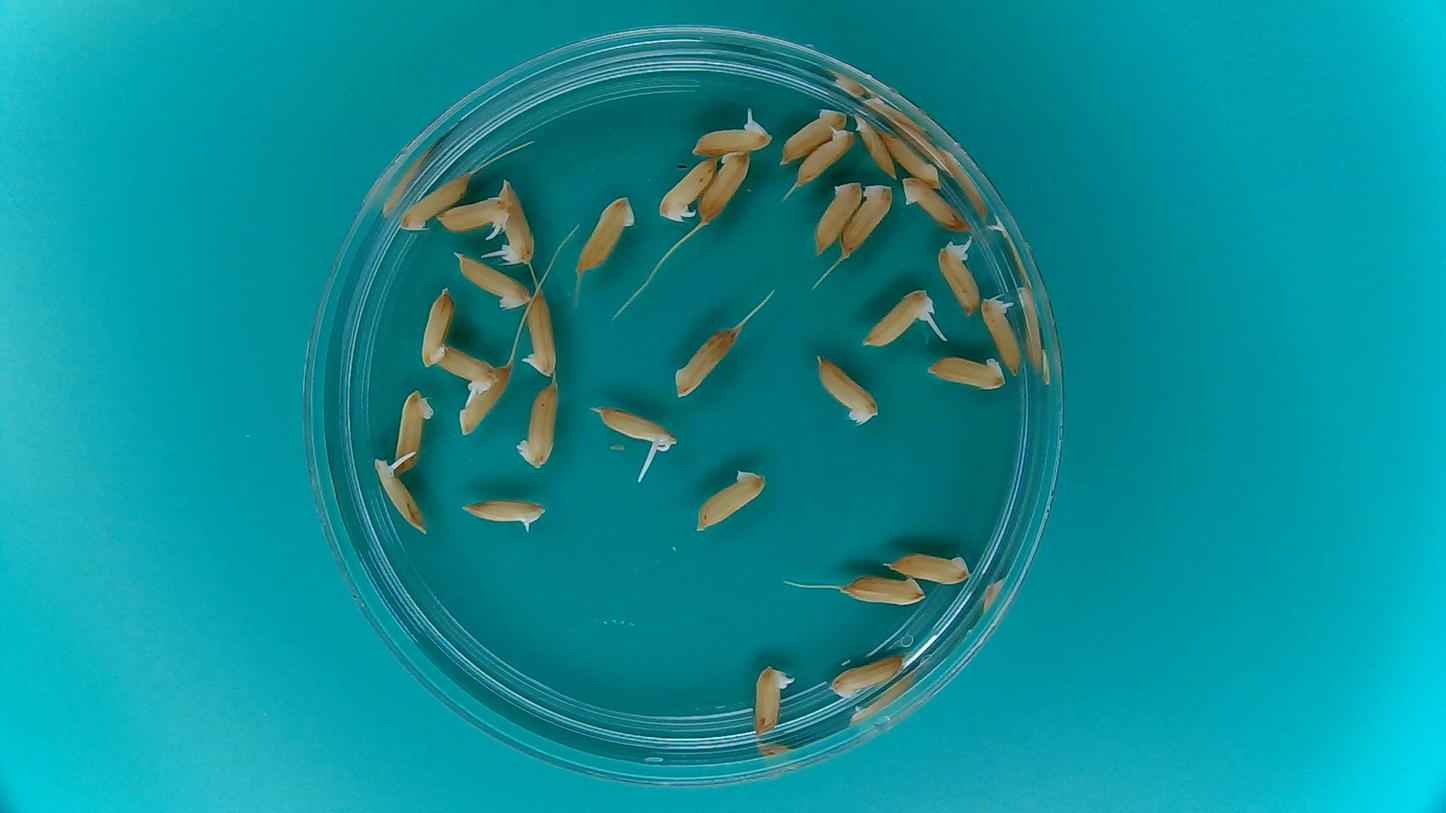no: (810, 351, 880, 428), (672, 321, 741, 399), (514, 377, 561, 471), (777, 102, 849, 163), (396, 172, 468, 233), (697, 149, 755, 223), (577, 195, 633, 271), (844, 178, 895, 259), (813, 177, 864, 257), (881, 126, 944, 189), (457, 254, 533, 306), (900, 176, 969, 233), (700, 469, 765, 527), (392, 387, 437, 470), (828, 650, 904, 698), (923, 351, 1010, 392), (416, 281, 455, 370), (837, 571, 927, 609), (882, 549, 974, 586), (461, 363, 508, 434), (852, 111, 898, 181)
yes: (657, 152, 721, 221), (866, 288, 932, 348), (375, 462, 426, 534), (520, 288, 560, 379), (794, 128, 851, 191), (596, 407, 676, 451), (936, 242, 982, 318), (980, 297, 1023, 378), (435, 192, 511, 237), (498, 178, 536, 265), (431, 349, 506, 391), (692, 120, 776, 156), (750, 665, 786, 739), (466, 500, 542, 532)
